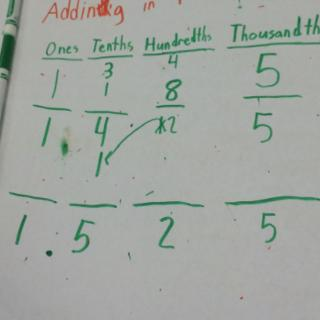.: (44, 246, 57, 261)
1: (49, 64, 61, 102), (15, 212, 28, 245), (93, 152, 106, 182), (42, 115, 53, 148)
2: (154, 214, 180, 250), (167, 112, 182, 135)
3: (99, 58, 116, 80)
4: (93, 114, 110, 147), (164, 51, 181, 72)
5: (253, 49, 284, 91), (72, 217, 97, 255), (252, 111, 276, 144), (260, 212, 279, 242)
8: (164, 77, 184, 103)
